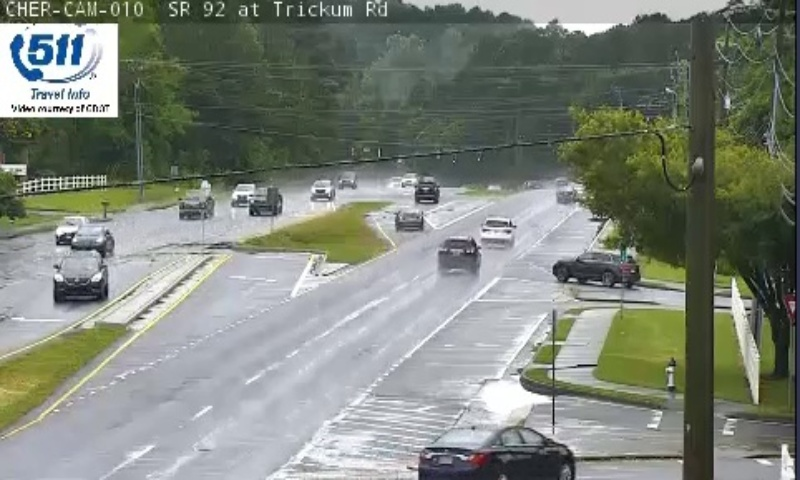car: (438, 234, 479, 268), (478, 218, 516, 245), (395, 207, 424, 229)
